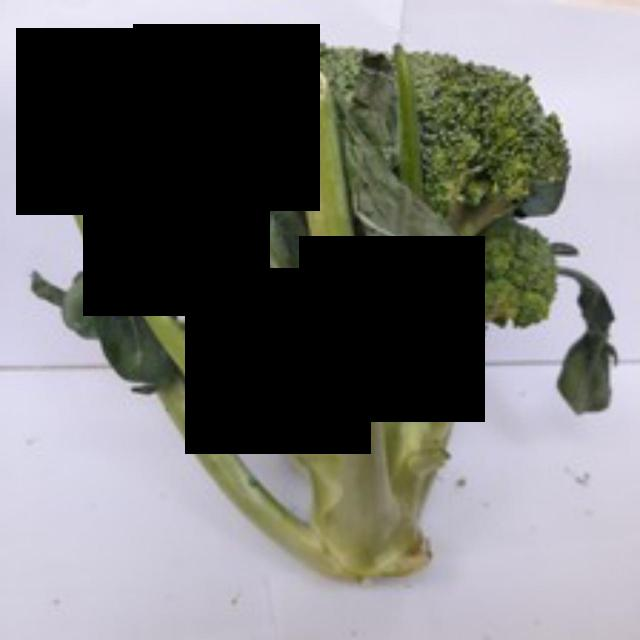broccoli: (123, 28, 578, 590)
